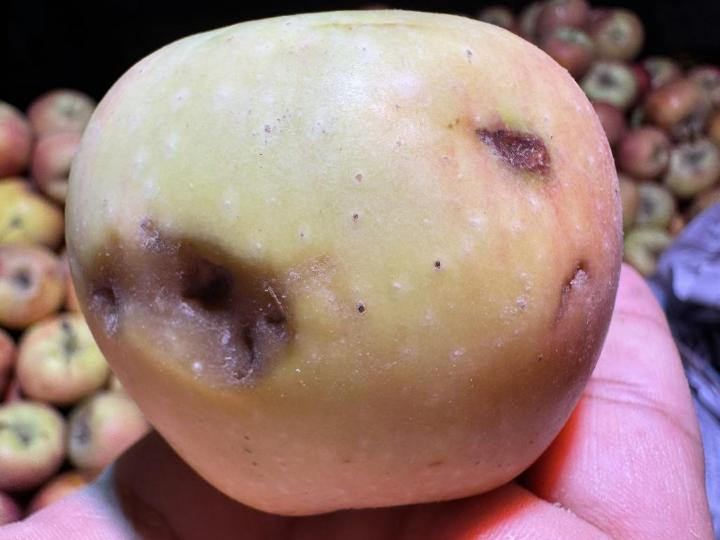apple: (66, 11, 622, 515)
surface_damage: (81, 218, 296, 389), (547, 258, 597, 335), (473, 127, 554, 173)
